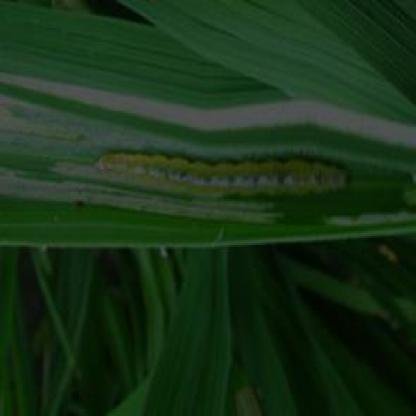leaf-folder: (84, 131, 386, 219)
